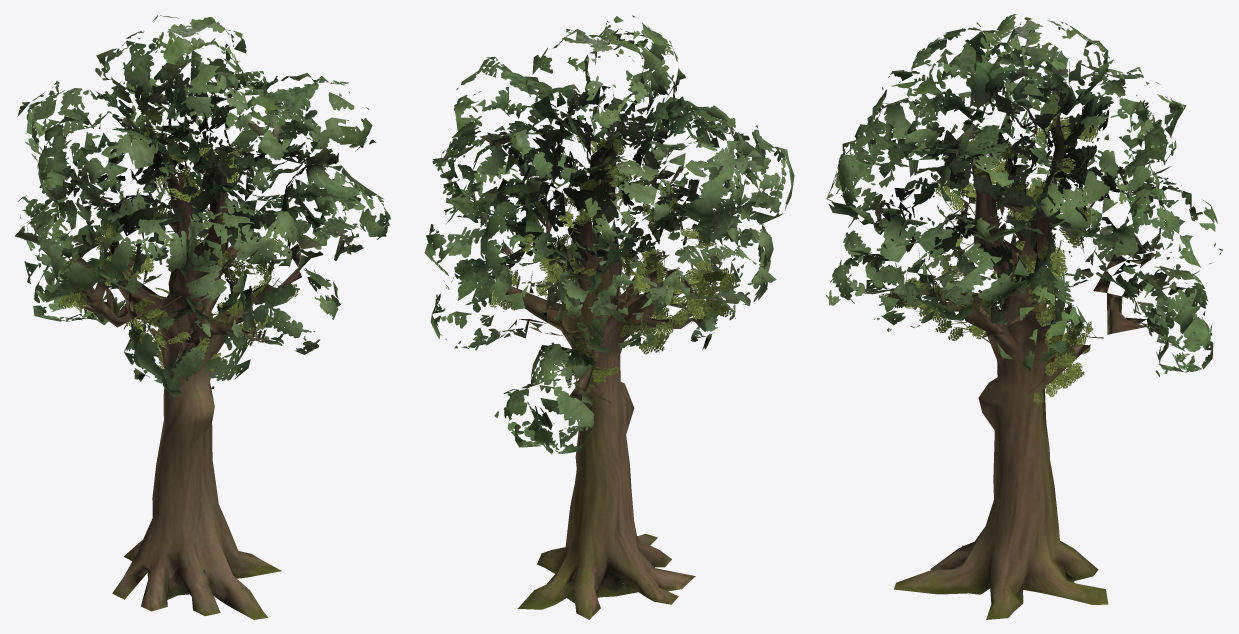
The model's file is tree-3106-mid.glb.
3 views of the same model, side by side, from view 1: azimuth 30°, elevation 25°; view 2: azimuth 150°, elevation 25°; view 3: azimuth 270°, elevation 25° (orthographic).
Visible parts, largest first — view 1: Foliage, Wood; view 2: Foliage, Wood; view 3: Foliage, Wood.
Boxes of the visible parts, bbox=[...] form: Foliage: bbox=[15, 15, 390, 397]; Wood: bbox=[69, 122, 336, 619]; Foliage: bbox=[424, 15, 794, 454]; Wood: bbox=[479, 132, 715, 619]; Foliage: bbox=[826, 14, 1222, 405]; Wood: bbox=[894, 107, 1155, 619].
Bounding box in the file's own units: 7.52 × 11.75 × 7.57.
2 materials, 2 textured.
